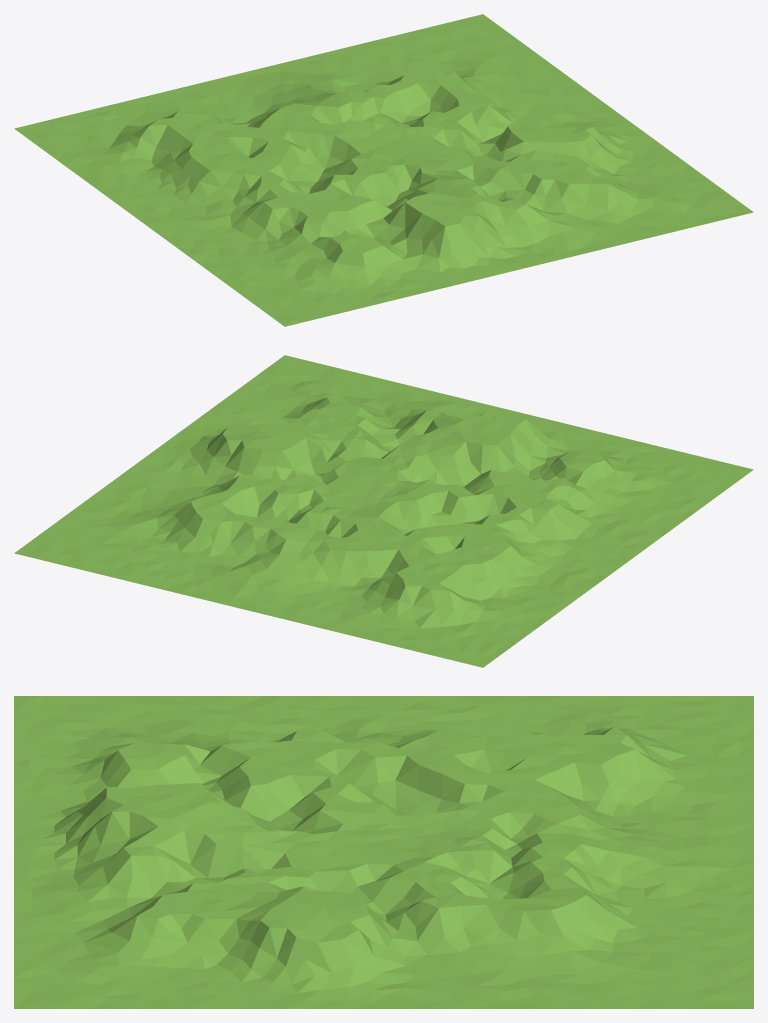
File: MT_Terrain_L_d_07.fbx
3 renders of one model, top to bottom at view 1: azimuth 30°, elevation 25°; view 2: azimuth 150°, elevation 25°; view 3: azimuth 270°, elevation 25°, orthographic. The views are drawn at different scales.
Visible parts, largest first — view 1: MT_Terrain_L_d_07; view 2: MT_Terrain_L_d_07; view 3: MT_Terrain_L_d_07.
Boxes of the visible parts, bbox=[...] form: MT_Terrain_L_d_07: bbox=[14, 14, 753, 326]; MT_Terrain_L_d_07: bbox=[14, 355, 753, 667]; MT_Terrain_L_d_07: bbox=[14, 696, 753, 1008].
Size of the model in its own units: 10000 by 589 by 10000.
